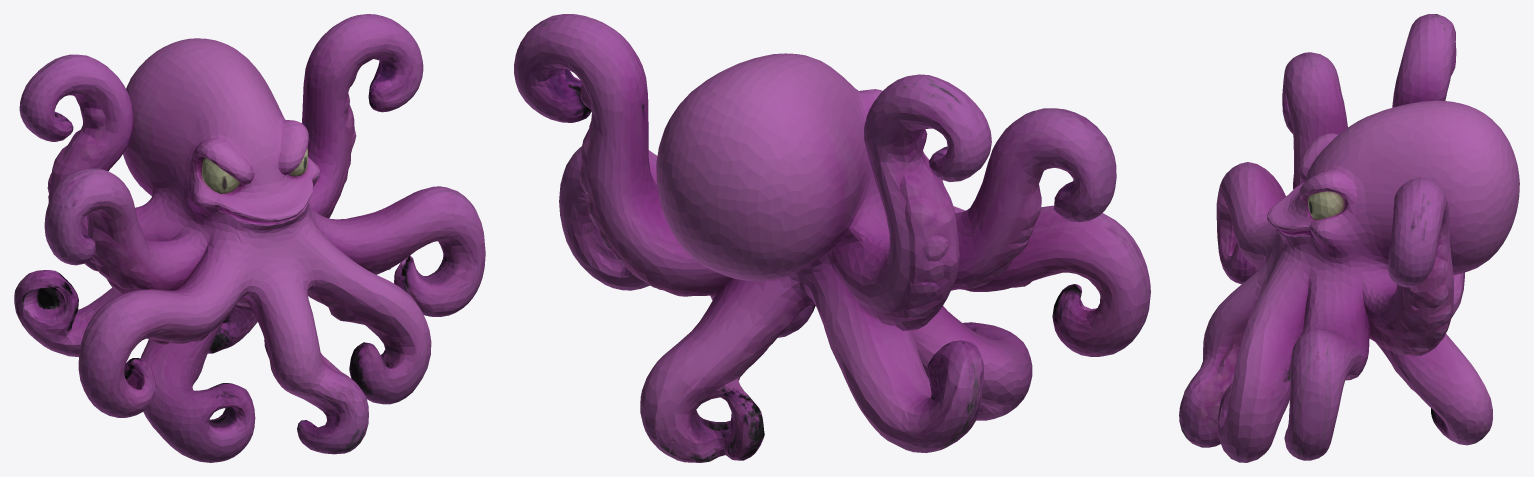
Rendered from draken2.glb.
3 renders of one model, left to right at view 1: azimuth 30°, elevation 25°; view 2: azimuth 150°, elevation 25°; view 3: azimuth 270°, elevation 25°, orthographic. The views are drawn at different scales.
Parts seen in each view (by area): view 1: world; view 2: world; view 3: world.
Boxes of the visible parts, bbox=[...] form: world: bbox=[14, 14, 485, 462]; world: bbox=[514, 14, 1150, 462]; world: bbox=[1179, 14, 1519, 462].
Size of the model in its own units: 1 by 0.7768 by 0.6805.
Materials: 1 (1 with a texture image).
